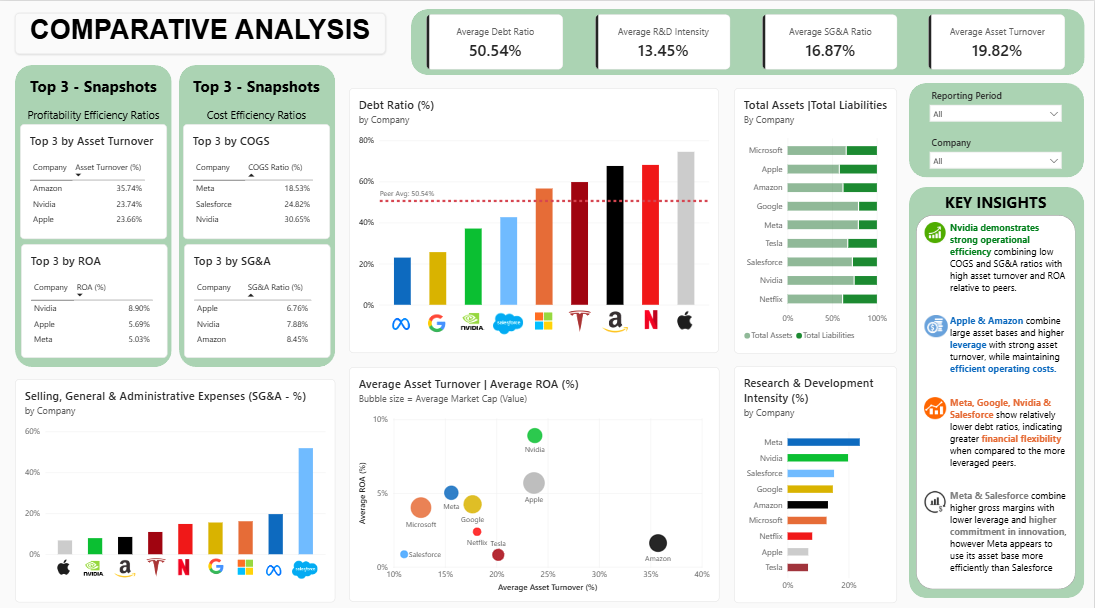

The page's visual inventory and layout, read from the dashboard file:
{"tool":"powerbi","page":{"name":"Comparative Analysis","canvas":[1920,1080],"ordinal":2},"visuals":[{"type":"shape","box":[315.7,111.4,274.3,530],"z":0},{"type":"clusteredColumnChart","title":"Selling, General & Administrative Expenses (SG&A - %)","fields":{"Category":["public financial_performance.company"],"Y":["Computations.Avg_SGNA-ratio%"]},"box":[28.3,663.3,562.2,392.5],"z":0,"group":"g5"},{"type":"clusteredColumnChart","title":"Debt Ratio (%)","fields":{"Category":["public financial_performance.company"],"Y":["Computations.AVG_Debt_Ratio"]},"box":[613.3,153.3,649.4,465.3],"z":1000,"group":"g6"},{"type":"shape","box":[1596.1,326.4,307.6,721.1],"z":1000},{"type":"shape","box":[28.3,111.7,275,530],"z":2000},{"type":"shape","box":[1608.9,375.6,280,656.7],"z":3000},{"type":"image","box":[806.6,536.6,47.5,50.8],"z":3000,"group":"g6"},{"type":"image","box":[146.6,974.1,41.7,43.3],"z":3000,"group":"g5"},{"type":"shape","box":[1595.7,144.3,307.1,165.7],"z":4000},{"type":"image","box":[255.8,971.6,39.4,43.2],"z":4000,"group":"g5"},{"type":"shape","box":[722,14,1182,116],"z":5000},{"type":"image","box":[995.8,538.3,45,50.8],"z":5000,"group":"g6"},{"type":"cardVisual","fields":{"Data":["Computations.Avg_RnD_intensity%"]},"box":[1045.7,22.9,238.2,98.5],"z":6000,"group":"g1"},{"type":"cardVisual","fields":{"Data":["Computations.Avg_SGNA-ratio%"]},"box":[1338.6,22.9,238.2,98.5],"z":6000,"group":"g3"},{"type":"textbox","box":[1668.6,385.7,205.7,630],"z":6000},{"type":"image","box":[456.6,971.6,51.6,52.1],"z":6000,"group":"g5"},{"type":"slicer","fields":{"Values":["public financial_performance.reporting_period"]},"box":[1628.5,153.8,240.9,70.1],"z":7000},{"type":"image","box":[675,539.1,60,54.2],"z":7000,"group":"g6"},{"type":"slicer","fields":{"Values":["public financial_performance.company"]},"box":[1628.5,237.5,240.9,71.8],"z":8000},{"type":"image","box":[198.3,976.6,45.3,38.1],"z":8000,"group":"g5"},{"type":"textbox","box":[28.3,21.7,650,71.7],"z":9000},{"type":"image","box":[1054.1,541.6,53.3,45.8],"z":9000,"group":"g6"},{"type":"group","id":"g1","title":"Group 3","box":[1045.7,22.9,238.6,98.6],"z":10000},{"type":"group","id":"g2","title":"Group 4","box":[750,22.9,241.4,98.6],"z":11000},{"type":"image","box":[1175.8,539.1,52.5,45.8],"z":11000,"group":"g6"},{"type":"image","box":[91.6,975,44.8,38.1],"z":11000,"group":"g5"},{"type":"group","id":"g3","title":"Group 3","box":[1338.6,22.9,237.1,98.6],"z":12000},{"type":"image","box":[307.5,978.3,33.9,29.2],"z":12000,"group":"g5"},{"type":"cardVisual","fields":{"Data":["Computations.AVG_Debt_Ratio"]},"box":[750,22.9,241.4,98.5],"z":13000,"group":"g2"},{"type":"cardVisual","fields":{"Data":["Computations.Avg_Asset_turnover%"]},"box":[1630,22.9,241.4,98.5],"z":13000,"group":"g4"},{"type":"group","id":"g4","title":"Group 4","box":[1630,22.9,241.4,98.6],"z":13000},{"type":"image","box":[1123.3,543.3,39.2,34.2],"z":13000,"group":"g6"},{"type":"hundredPercentStackedBarChart","title":"Total Assets |Total Liabilities","fields":{"Category":["public financial_performance.company"],"Y":["Computations.Avg_Total_Assets","Computations.Avg_Total_Liabilities"]},"box":[1290,152.9,285.7,465.7],"z":14000},{"type":"image","box":[865.8,535.8,53.3,62.5],"z":15000,"group":"g6"},{"type":"scatterChart","title":"Average Asset Turnover | Average ROA (%)","fields":{"Series":["public financial_performance.company"],"Size":["Computations.Avg_Market_Cap"],"X":["Computations.Avg_Asset_turnover%"],"Y":["Computations.Avg_ROA"]},"box":[613.3,641.7,650,411.7],"z":15000},{"type":"image","box":[515,971.6,45.3,52.8],"z":15000,"group":"g5"},{"type":"barChart","title":"Research & Development Intensity (%)","fields":{"Category":["public financial_performance.company"],"Y":["Computations.Avg_RnD_intensity%"]},"box":[1290,640,285.7,415.7],"z":16000},{"type":"image","box":[414.1,975.8,35.8,35.8],"z":16000,"group":"g5"},{"type":"tableEx","title":"Top 3 by Asset Turnover","fields":{"Values":["public financial_performance.company","Computations.Avg_Asset_turnover%"]},"box":[36.9,216,258,202],"z":17000},{"type":"image","box":[934.6,540.3,41,42.6],"z":17000,"group":"g6"},{"type":"tableEx","title":"Top 3 by ROA","fields":{"Values":["public financial_performance.company","Computations.Avg_ROA"]},"box":[38.3,425.7,256.7,200],"z":18000},{"type":"image","box":[360.8,974.1,38,35.6],"z":18000,"group":"g5"},{"type":"textbox","box":[34,111.7,264.3,107.1],"z":19000},{"type":"image","box":[745,544.1,44.2,42.5],"z":19000,"group":"g6"},{"type":"tableEx","title":"Top 3 by COGS","fields":{"Values":["public financial_performance.company","Computations.COGS_to_rev_ratio"]},"box":[323.3,216,258,202],"z":20000},{"type":"tableEx","title":"Top 3 by SG&A","fields":{"Values":["public financial_performance.company","Computations.Avg_SGNA-ratio%"]},"box":[324.7,425.7,256.7,200],"z":21000},{"type":"textbox","box":[319,111.7,264.3,107.1],"z":22000},{"type":"textbox","box":[1595,333.3,308,42],"z":23000},{"type":"group","id":"g5","title":"Group 1","box":[28.3,663.3,562.2,392.5],"z":24000},{"type":"group","id":"g6","title":"Group 2","box":[613.3,153.3,649.4,465.3],"z":25000},{"type":"image","box":[1615.7,387.1,52.9,37.1],"z":26000},{"type":"image","box":[1615.7,694.3,52.9,38.6],"z":27000},{"type":"image","box":[1617.1,551.4,52.9,38.6],"z":28000},{"type":"image","box":[1612.9,854.3,60,48.6],"z":29000}]}

Visuals, with their boxes in screenshot pixels (x1, y1, x2, y2), scaled from the page's 1920x1080 canvas onto the 1095x608 screenshot:
shape: 180:63:336:361
"Selling, General & Administrative Expenses (SG&A - %)" clusteredColumnChart: 16:373:337:594
"Debt Ratio (%)" clusteredColumnChart: 350:86:720:348
shape: 910:184:1086:590
shape: 16:63:173:361
shape: 918:211:1077:581
image: 460:302:487:331
image: 84:548:107:573
shape: 910:81:1085:175
image: 146:547:168:571
shape: 412:8:1086:73
image: 568:303:594:332
cardVisual - Computations.Avg_RnD_intensity%: 596:13:732:68
cardVisual - Computations.Avg_SGNA-ratio%: 763:13:899:68
textbox: 952:217:1069:572
image: 260:547:290:576
slicer - public financial_performance.reporting_period: 929:87:1066:126
image: 385:303:419:334
slicer - public financial_performance.company: 929:134:1066:174
image: 113:550:139:571
textbox: 16:12:387:53
image: 601:305:632:331
"Group 3" group: 596:13:732:68
"Group 4" group: 428:13:565:68
image: 671:303:701:329
image: 52:549:78:570
"Group 3" group: 763:13:899:68
image: 175:551:195:567
cardVisual - Computations.AVG_Debt_Ratio: 428:13:565:68
cardVisual - Computations.Avg_Asset_turnover%: 930:13:1067:68
"Group 4" group: 930:13:1067:68
image: 641:306:663:325
"Total Assets |Total Liabilities" hundredPercentStackedBarChart: 736:86:899:348
image: 494:302:524:337
"Average Asset Turnover | Average ROA (%)" scatterChart: 350:361:720:593
image: 294:547:320:577
"Research & Development Intensity (%)" barChart: 736:360:899:594
image: 236:549:257:569
"Top 3 by Asset Turnover" tableEx: 21:122:168:235
image: 533:304:556:328
"Top 3 by ROA" tableEx: 22:240:168:352
image: 206:548:227:568
textbox: 19:63:170:123
image: 425:306:450:330
"Top 3 by COGS" tableEx: 184:122:332:235
"Top 3 by SG&A" tableEx: 185:240:332:352
textbox: 182:63:333:123
textbox: 910:188:1085:211
"Group 1" group: 16:373:337:594
"Group 2" group: 350:86:720:348
image: 921:218:952:239
image: 921:391:952:413
image: 922:310:952:332
image: 920:481:954:508
